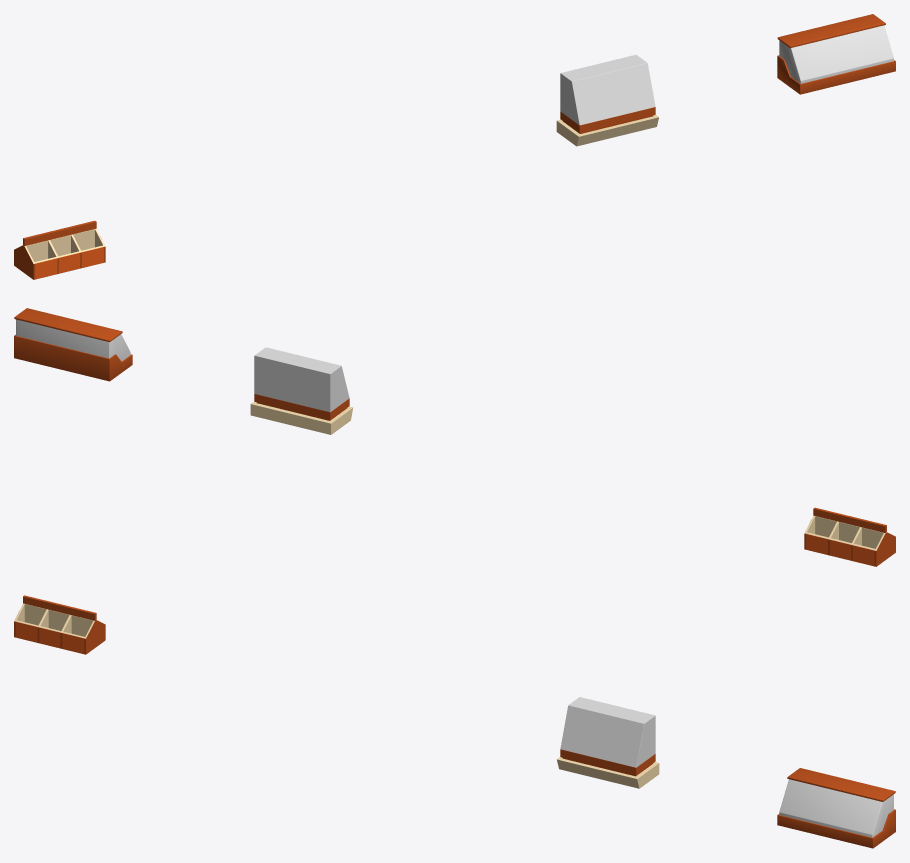
File: display-binfbx.fbx
3 views of the same model, one above another, from view 1: azimuth 30°, elevation 25°; view 2: azimuth 150°, elevation 25°; view 3: azimuth 330°, elevation 25° (orthographic).
Visible parts, largest first — view 1: Cube.034, Cube.050, Cube.005, Cube.049, Cube.051, Cube.031, Cube.032, Cube.006; view 2: Cube.034, Cube.005, Cube.049, Cube.050, Cube.031, Cube.051, Cube.032, Cube.006; view 3: Cube.034, Cube.050, Cube.005, Cube.049, Cube.051, Cube.031, Cube.032, Cube.006.
Part boxes in pixels (bbox=[...]): Cube.034: bbox=[560, 54, 655, 125]; Cube.050: bbox=[779, 25, 893, 83]; Cube.005: bbox=[14, 228, 105, 279]; Cube.049: bbox=[777, 55, 895, 94]; Cube.051: bbox=[777, 14, 885, 48]; Cube.031: bbox=[556, 114, 658, 146]; Cube.032: bbox=[560, 107, 655, 133]; Cube.006: bbox=[23, 220, 96, 245]; Cube.034: bbox=[254, 347, 349, 412]; Cube.005: bbox=[804, 515, 895, 566]; Cube.049: bbox=[14, 334, 132, 381]; Cube.050: bbox=[16, 319, 130, 361]; Cube.031: bbox=[250, 401, 353, 434]; Cube.051: bbox=[14, 308, 122, 342]; Cube.032: bbox=[254, 394, 349, 420]; Cube.006: bbox=[813, 507, 886, 532]; Cube.034: bbox=[560, 697, 655, 767]; Cube.050: bbox=[779, 779, 893, 837]; Cube.005: bbox=[14, 603, 105, 654]; Cube.049: bbox=[777, 809, 895, 848]; Cube.051: bbox=[787, 768, 895, 801]; Cube.031: bbox=[557, 757, 659, 788]; Cube.032: bbox=[560, 749, 655, 776]; Cube.006: bbox=[23, 595, 96, 620].
Bounding box in the file's own units: 2873 × 190 × 132.
